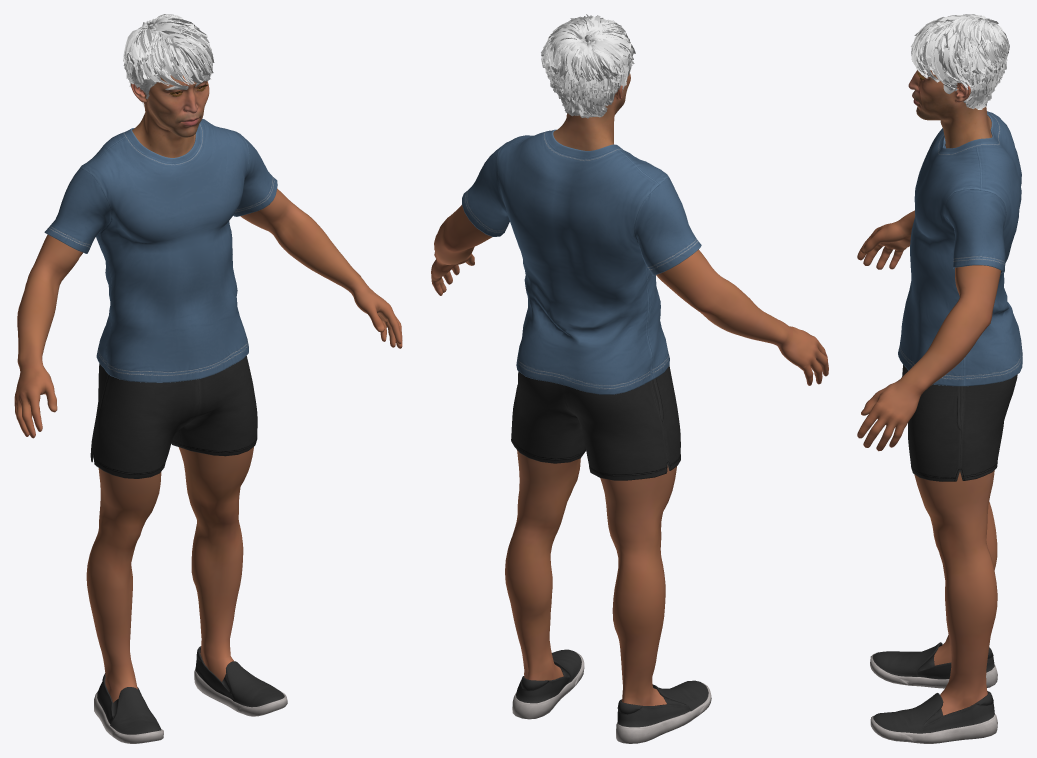
Rendered from CrashGuyEmpty.fbx.
3 views of the same model, side by side, from view 1: azimuth 30°, elevation 25°; view 2: azimuth 150°, elevation 25°; view 3: azimuth 270°, elevation 25° (orthographic). The views are drawn at different scales.
Visible parts, largest first — view 1: CrashGuy, Hair_S_Pixie_CardsMesh_Group0_LOD0; view 2: CrashGuy, Hair_S_Pixie_CardsMesh_Group0_LOD0; view 3: CrashGuy, Hair_S_Pixie_CardsMesh_Group0_LOD0.
Part boxes in pixels (x1,y1,x2,y2): CrashGuy: [14, 75, 402, 743]; Hair_S_Pixie_CardsMesh_Group0_LOD0: [123, 14, 214, 106]; CrashGuy: [431, 73, 828, 743]; Hair_S_Pixie_CardsMesh_Group0_LOD0: [541, 14, 635, 118]; CrashGuy: [857, 70, 1022, 743]; Hair_S_Pixie_CardsMesh_Group0_LOD0: [911, 14, 1009, 109].
Bounding box in the file's own units: 1.1 × 1.9 × 0.4112.
